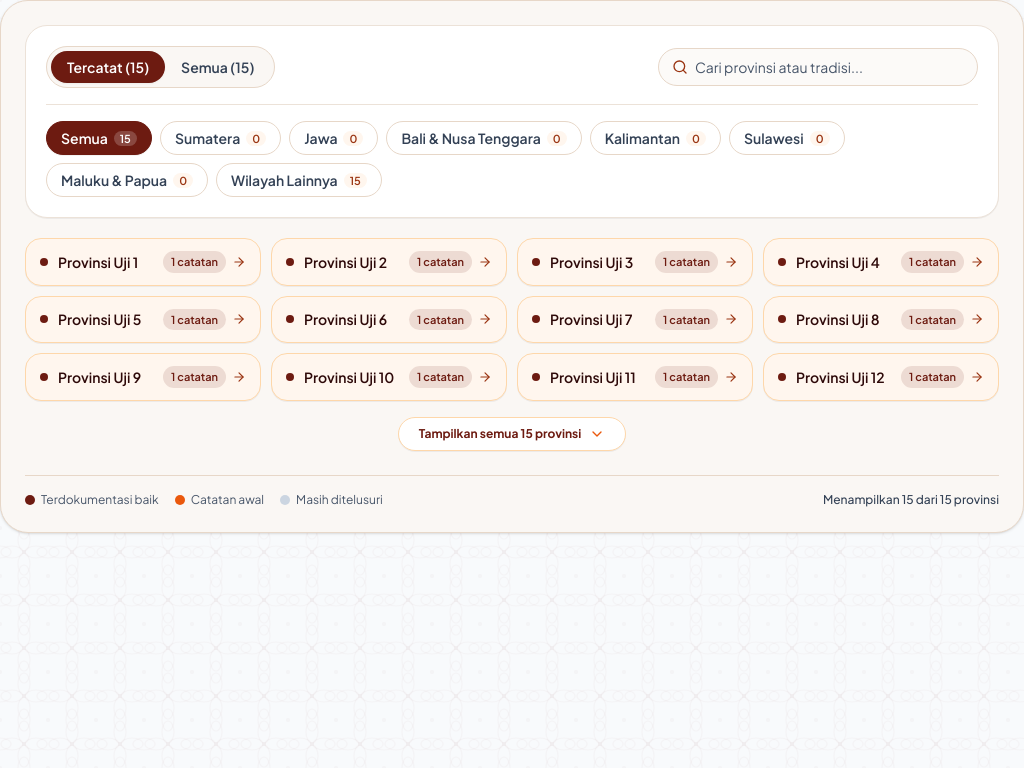
it: ProvinceExplorer › membatasi grid ringkas pada 12 kartu dan menyediakan tombol perluas saat jumlah provinsi banyak
Expected: the button "Provinsi Uji 13" is not shown
// Klik tombol perluas
Click the button "Tampilkan semua 15 provinsi" at (512, 434), box [398,417,626,451]
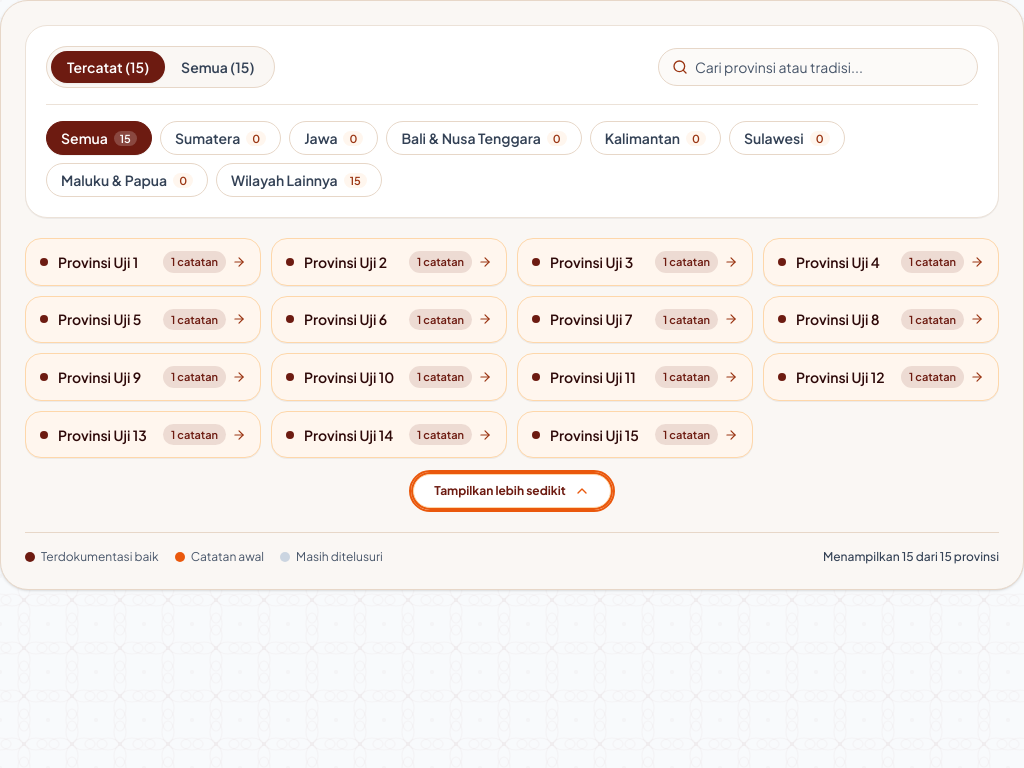
Result: the button "Provinsi Uji 13 1 catatan" is shown at [25,411,261,458]
Result: the button "Tampilkan lebih sedikit" is shown
// Klik tombol ciutkan
Click the button "Tampilkan lebih sedikit" at (512, 491), box [413,474,611,508]
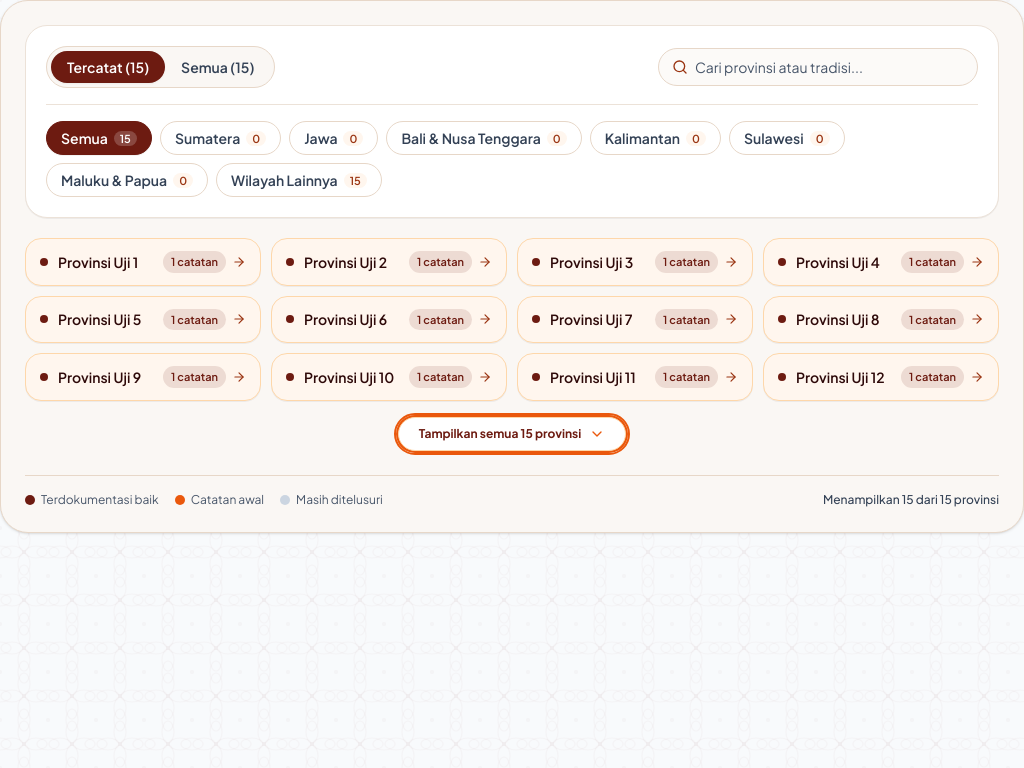
Result: the button "Provinsi Uji 13" is gone
